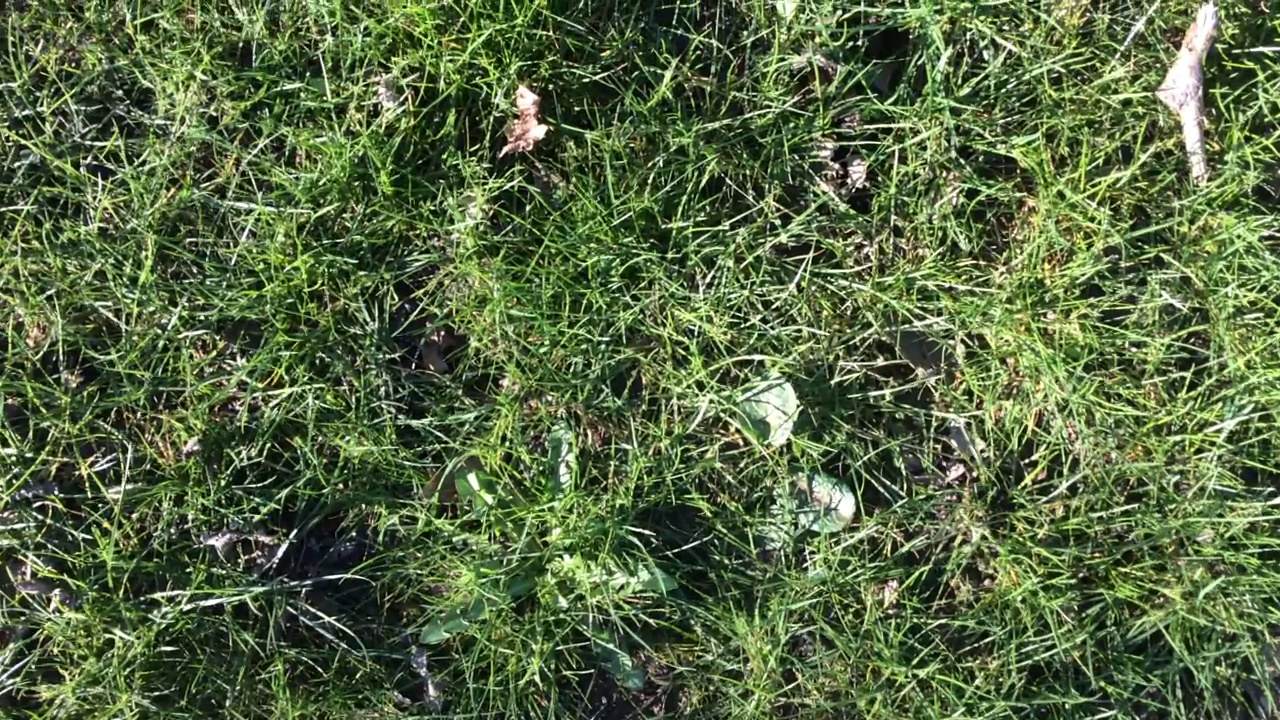rumex: (776, 474, 858, 532), (738, 374, 798, 446)
